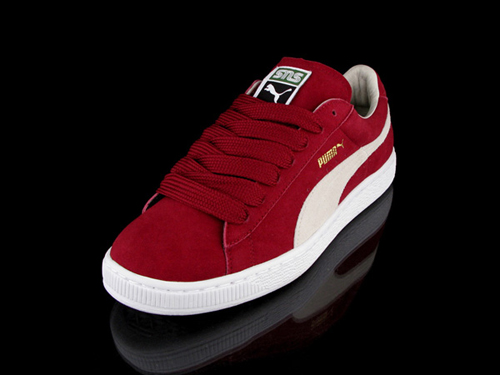Puma Suede Low Red: (90, 47, 403, 323)
